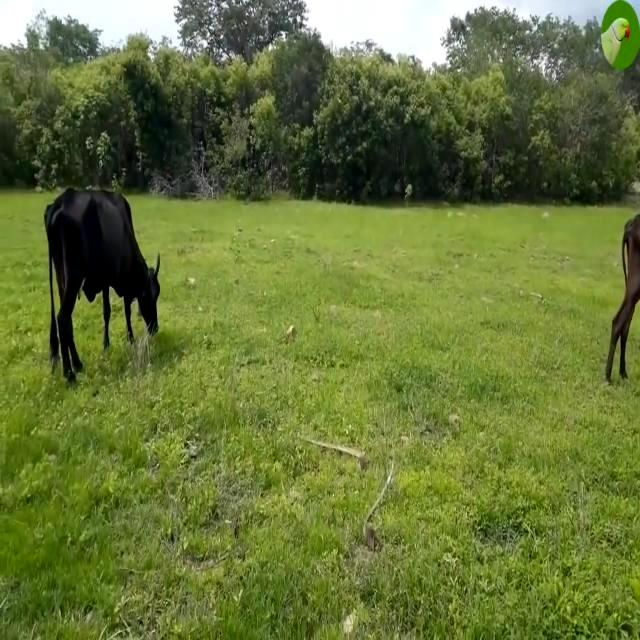COW: (45, 190, 160, 382)
